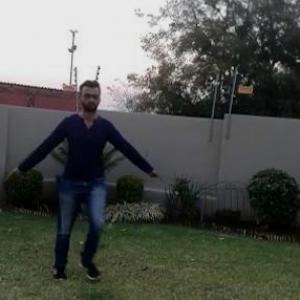land: (25, 92, 143, 254)
